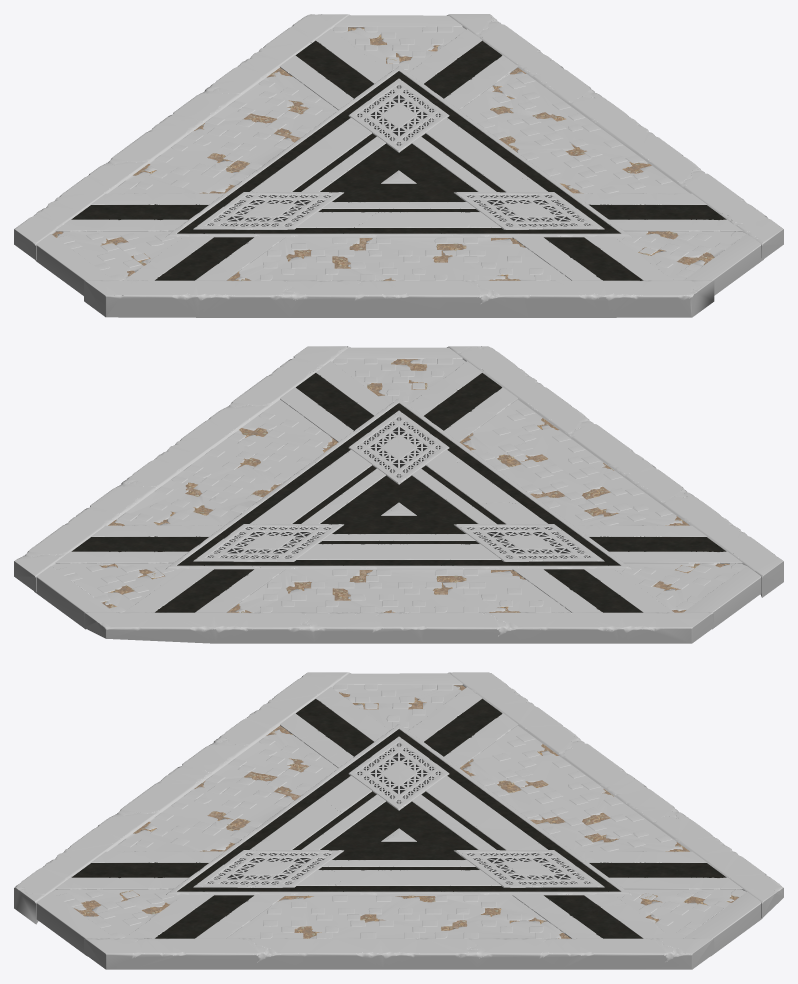
The picture shows the model from 3 angles, top to bottom: view 1: azimuth 30°, elevation 25°; view 2: azimuth 150°, elevation 25°; view 3: azimuth 270°, elevation 25°; orthographic projection.
Visible parts, largest first — view 1: SM_Nightmare_Crucible_Arena_Central_Section_01v1_LOD0; view 2: SM_Nightmare_Crucible_Arena_Central_Section_01v1_LOD0; view 3: SM_Nightmare_Crucible_Arena_Central_Section_01v1_LOD0.
Boxes of the visible parts, x1,y1,x2,y2 form: SM_Nightmare_Crucible_Arena_Central_Section_01v1_LOD0: [14, 14, 783, 317]; SM_Nightmare_Crucible_Arena_Central_Section_01v1_LOD0: [14, 346, 783, 643]; SM_Nightmare_Crucible_Arena_Central_Section_01v1_LOD0: [14, 672, 783, 969].
Bounding box in the file's own units: 60.02 × 2.29 × 69.23.
